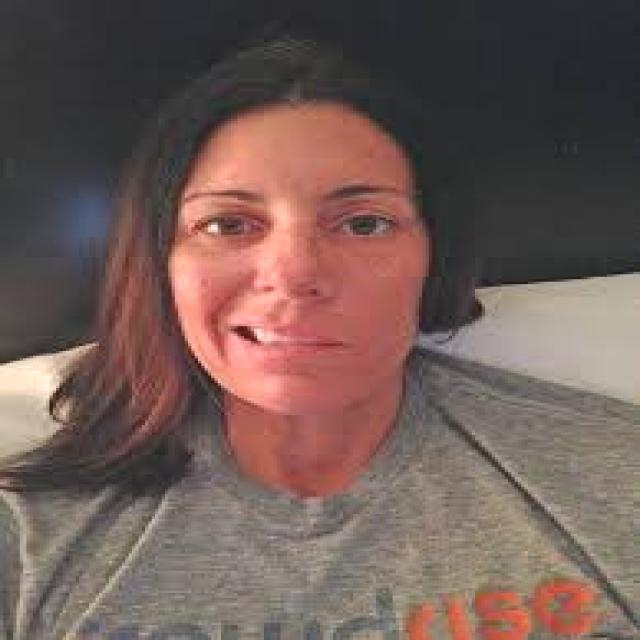stroke_face: (129, 67, 438, 417)
